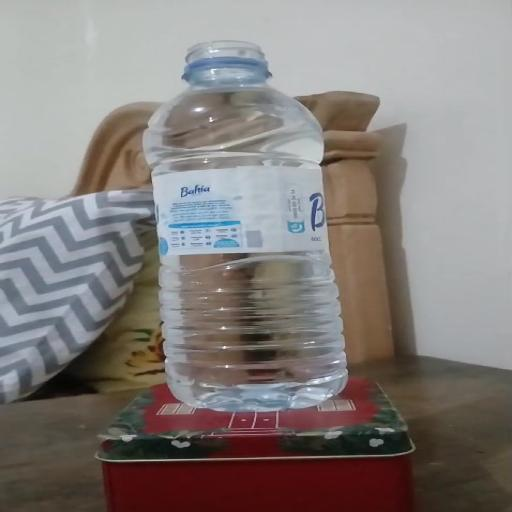bouteille non conformite: (146, 38, 351, 412), (170, 34, 305, 88)
